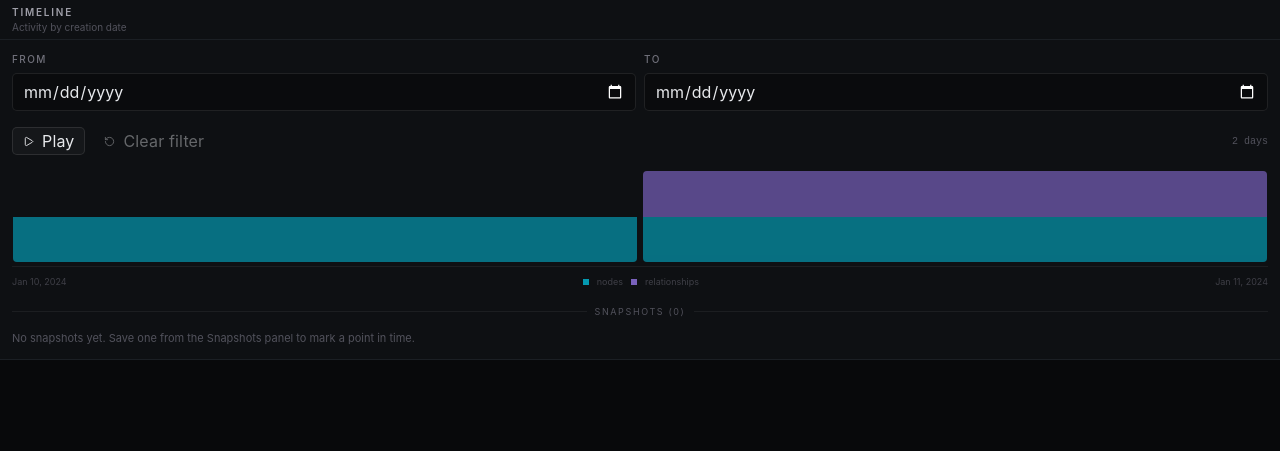
Scenario: TimelinePanel › shows an empty state when the range contains no activity
Type "2023-12-31" into the date field labelled "To" at (956, 92), box top-left (644, 73), bottom-right (1268, 111)
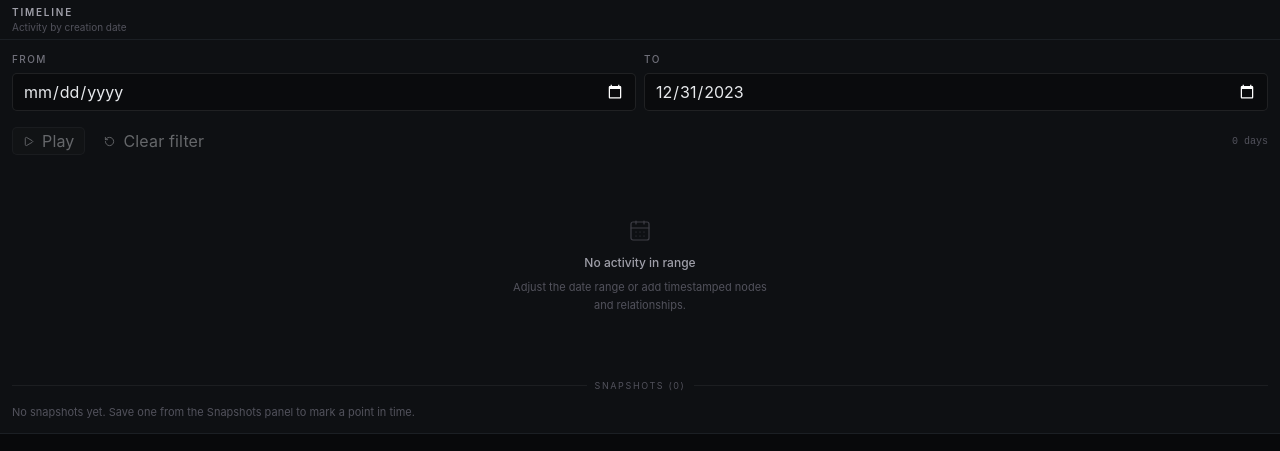
Expected: the text "2 days" is not shown
Now the text "No activity in range" is shown, box top-left (584, 255), bottom-right (696, 271)
Now the button "Play" is disabled, box top-left (12, 127), bottom-right (86, 155)
